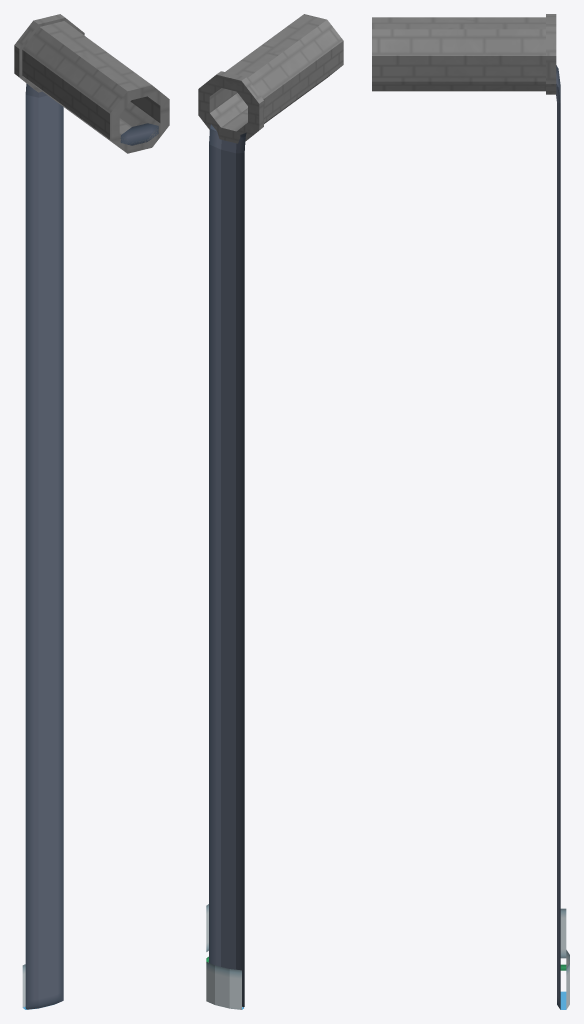
File: InletSewagePipe.fbx
The picture shows the model from 3 angles, left to right: view 1: azimuth 30°, elevation 25°; view 2: azimuth 150°, elevation 25°; view 3: azimuth 270°, elevation 25°; orthographic projection. The views are drawn at different scales.
Parts seen in each view (by area): view 1: Waterfall, Pipe; view 2: Waterfall, Pipe; view 3: Pipe, Waterfall.
Part boxes in pixels (x1,y1,x2,y2): Waterfall: [22, 83, 158, 1009]; Pipe: [14, 14, 169, 153]; Waterfall: [206, 124, 246, 1009]; Pipe: [198, 14, 343, 143]; Pipe: [372, 14, 556, 94]; Waterfall: [556, 65, 569, 1009].
Size of the model in its own units: 68.27 by 990 by 181.
3 materials, 3 textured.
